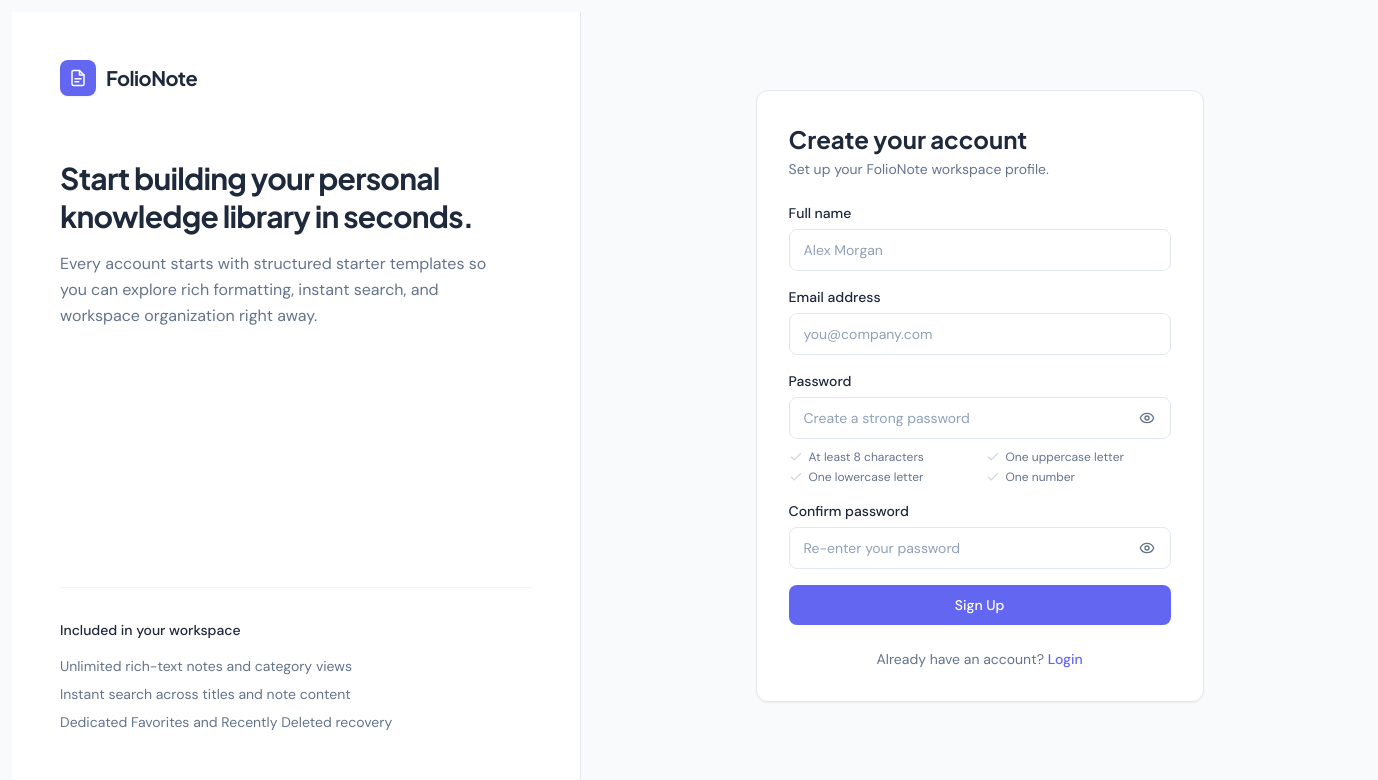
Authentication Screens › registers a new user account on the signup page
Type "Jordan Taylor" into the field labelled "Full name" at (980, 250), box 789,229 -> 1171,271
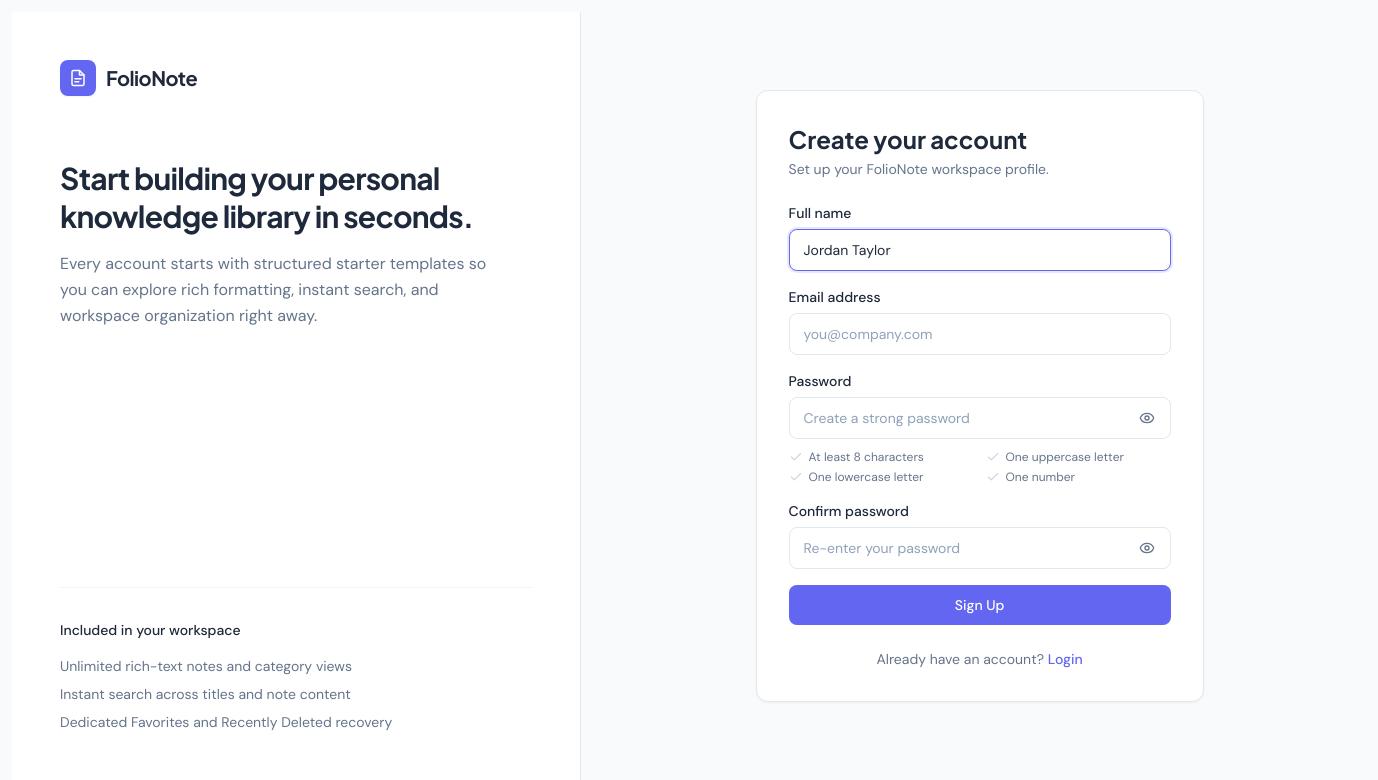
Type "jordan@example.com" into the field labelled "Email address" at (980, 334), box 789,313 -> 1171,355
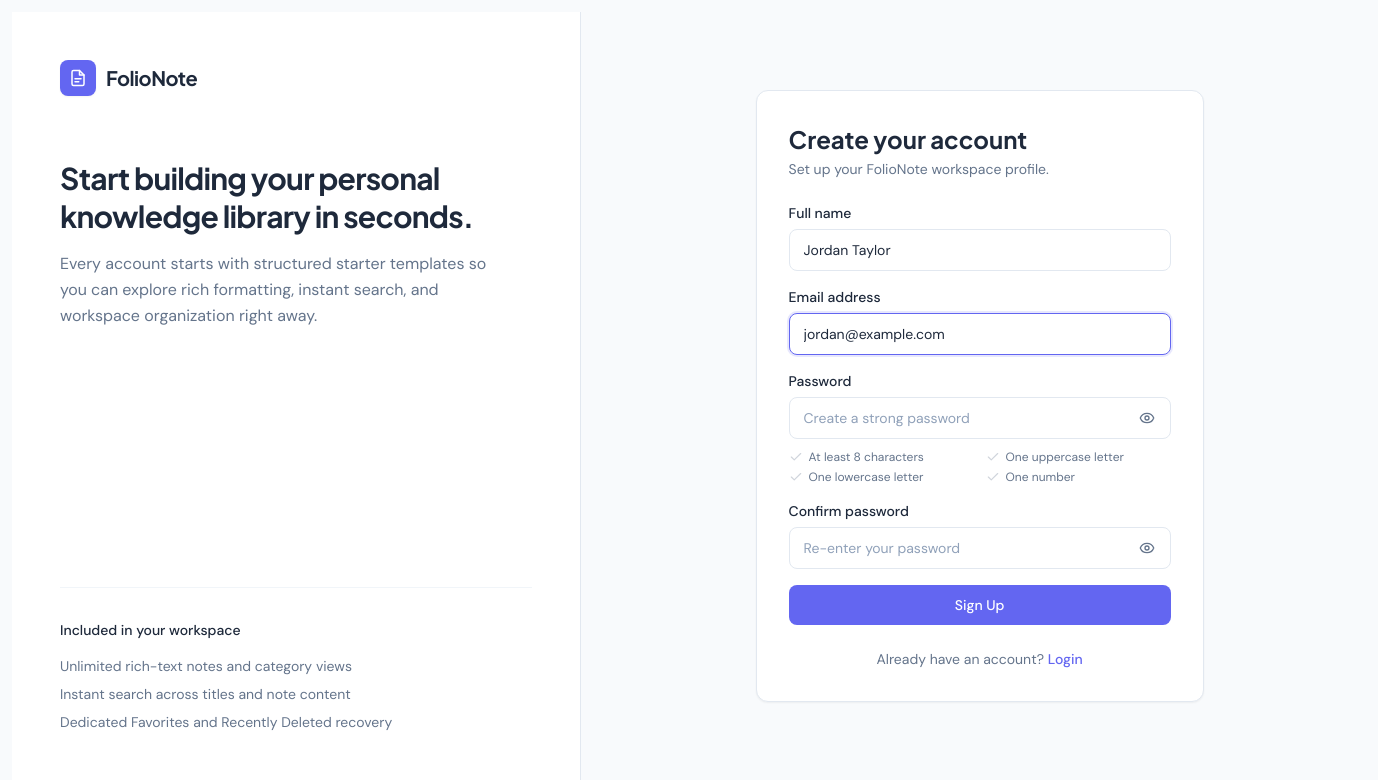
Type "StrongPass123" into the password field labelled "Password" at (980, 418), box 789,397 -> 1171,439
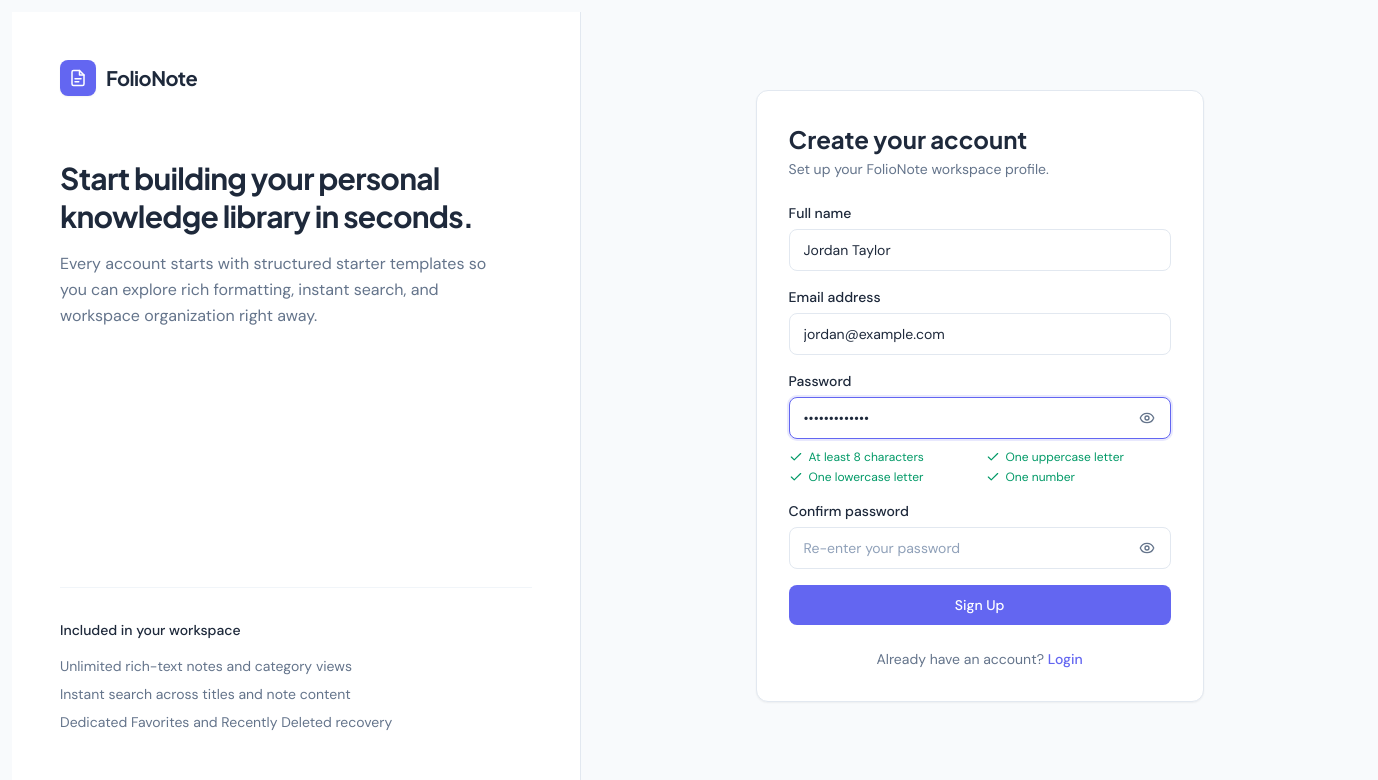
Type "StrongPass123" into the password field labelled "Confirm password" at (980, 548), box 789,527 -> 1171,569
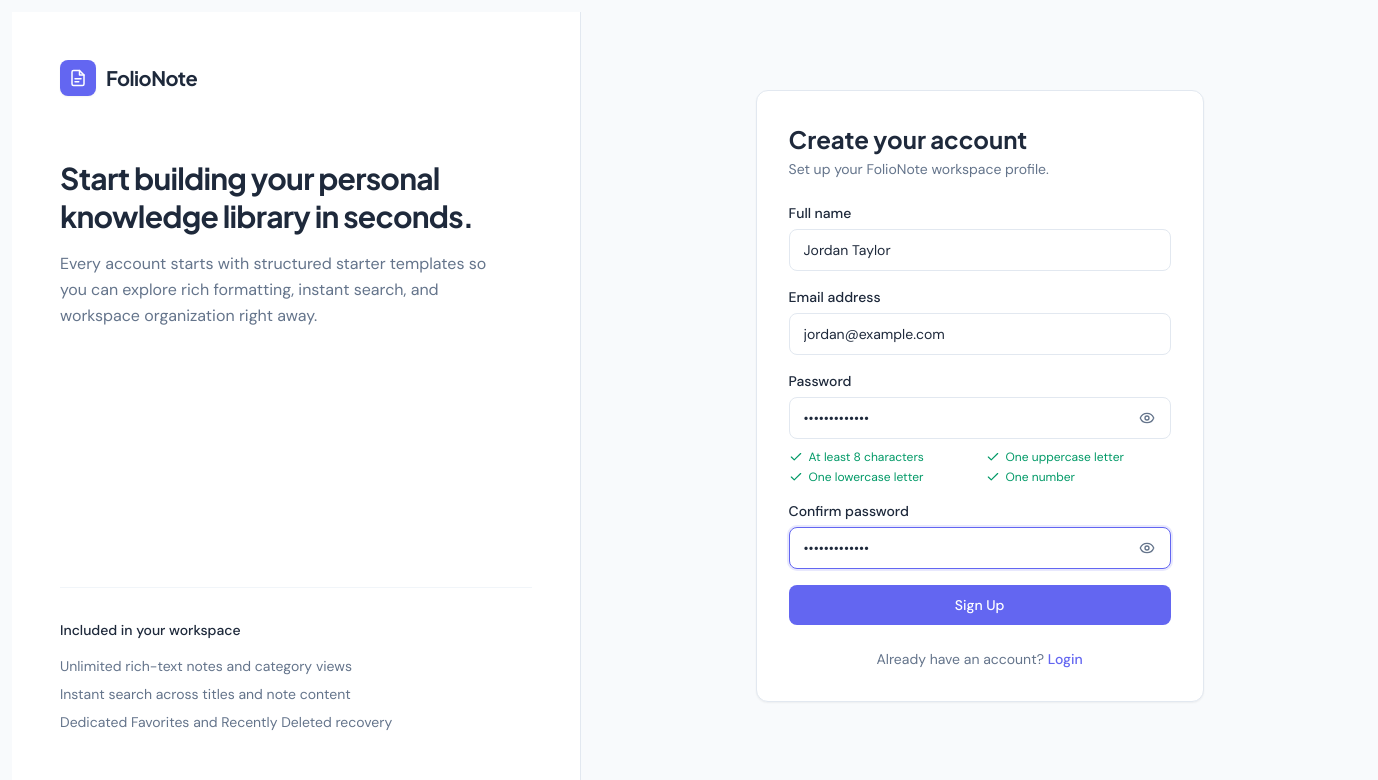
Click the button "Sign Up" at (980, 605), box 789,585 -> 1171,625
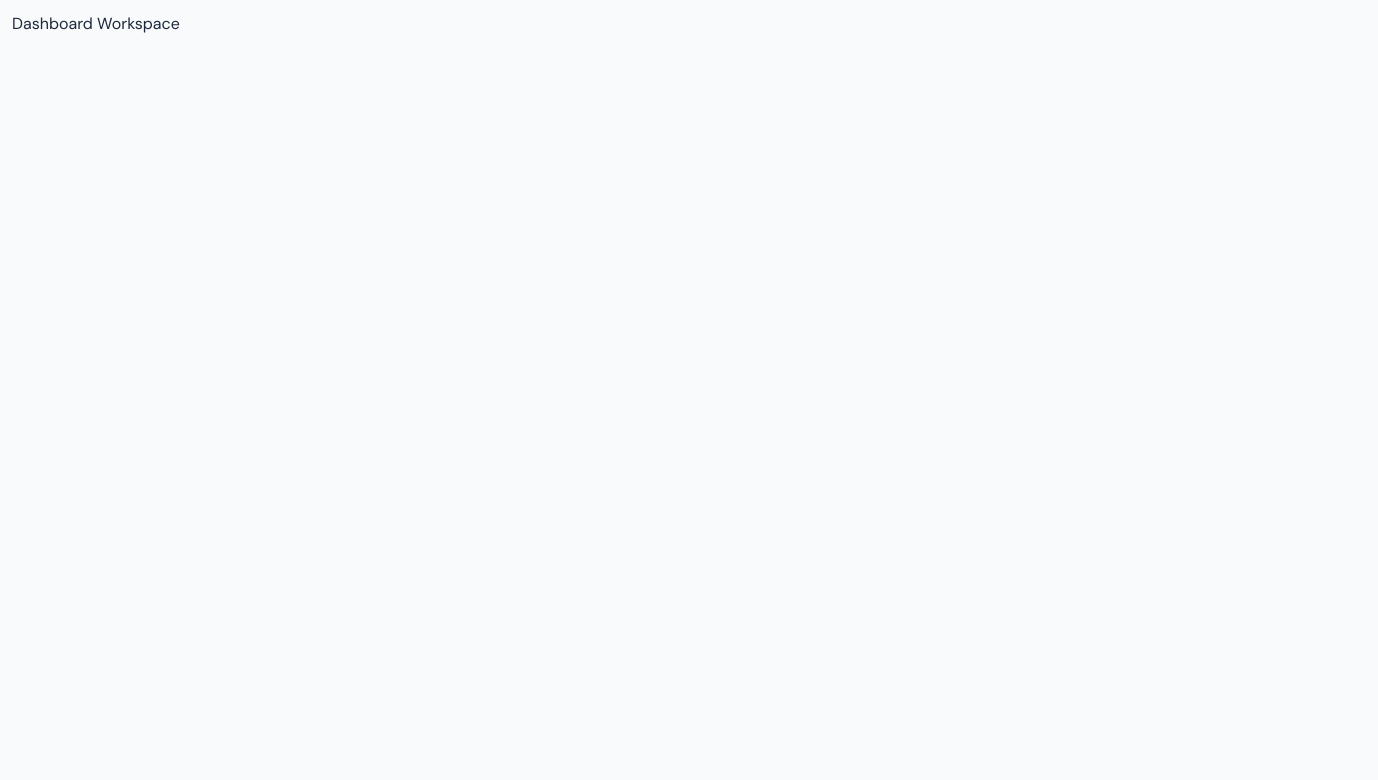
Expected: the text "Dashboard Workspace" is shown, 12,13 -> 180,34
